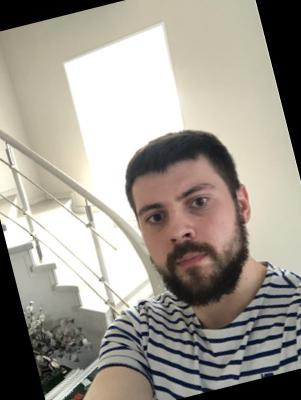without_mask: (132, 172, 255, 317)
